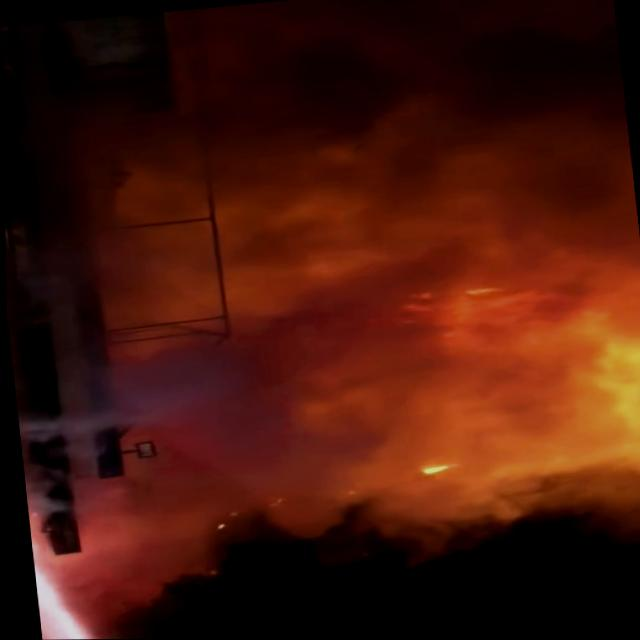smoke: (232, 0, 640, 580)
